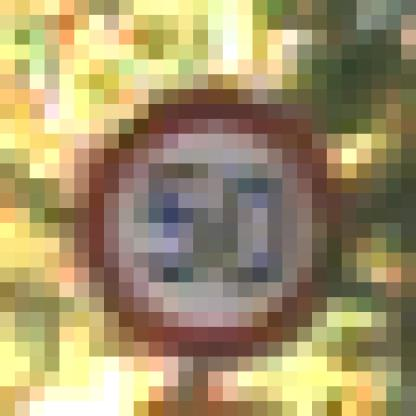Speed Limit 50: (96, 101, 328, 346)
